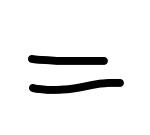eqv: (23, 51, 126, 94)
